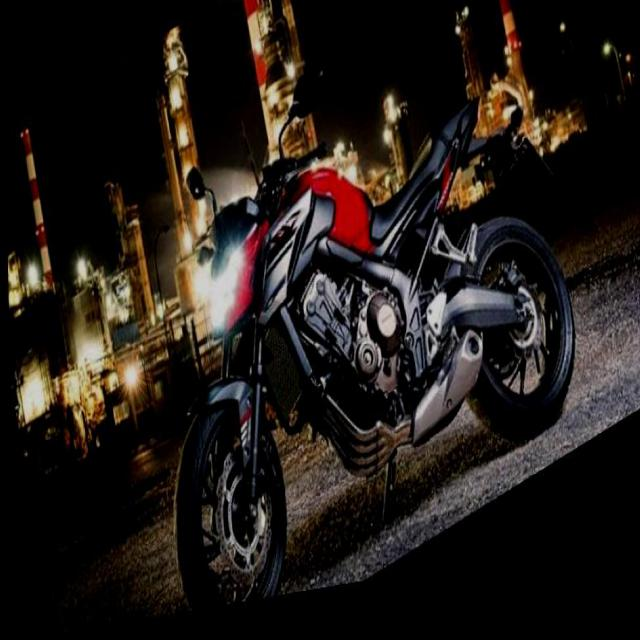CB650R: (117, 26, 591, 623)
